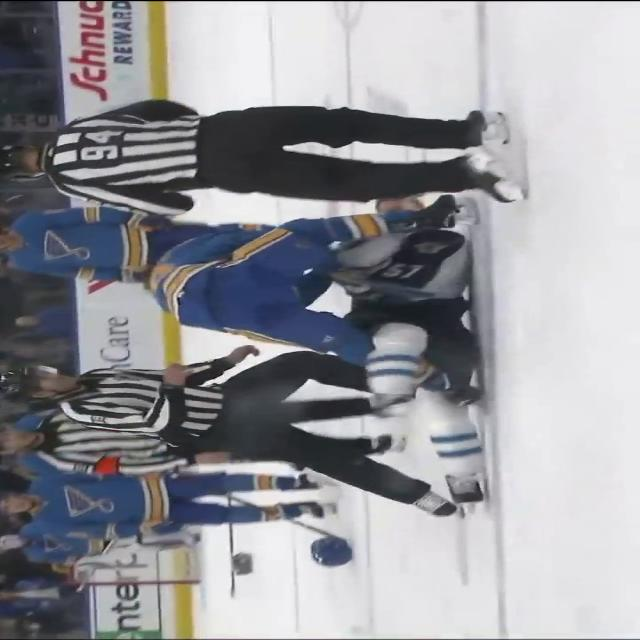NonViolence: (0, 95, 521, 210), (0, 352, 308, 469)
Violence: (142, 196, 492, 352)
